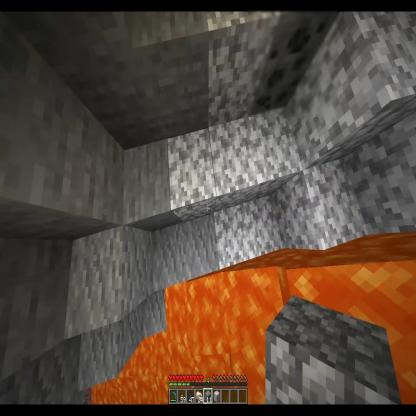coal ore: (248, 4, 338, 117)
